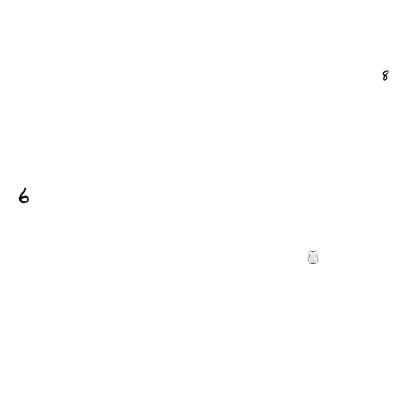6: (12, 186, 34, 208)
8: (378, 68, 392, 82)
T-shirt/top: (306, 250, 320, 264)
